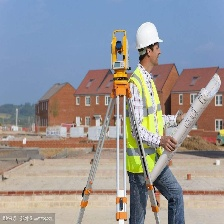helmet: (134, 21, 164, 56)
person: (128, 20, 173, 224)
vest: (130, 64, 167, 180)
